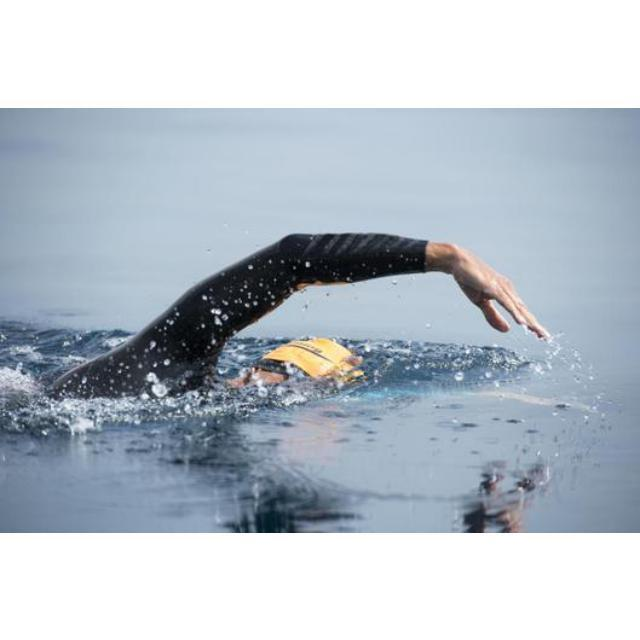human: (52, 229, 557, 409)
